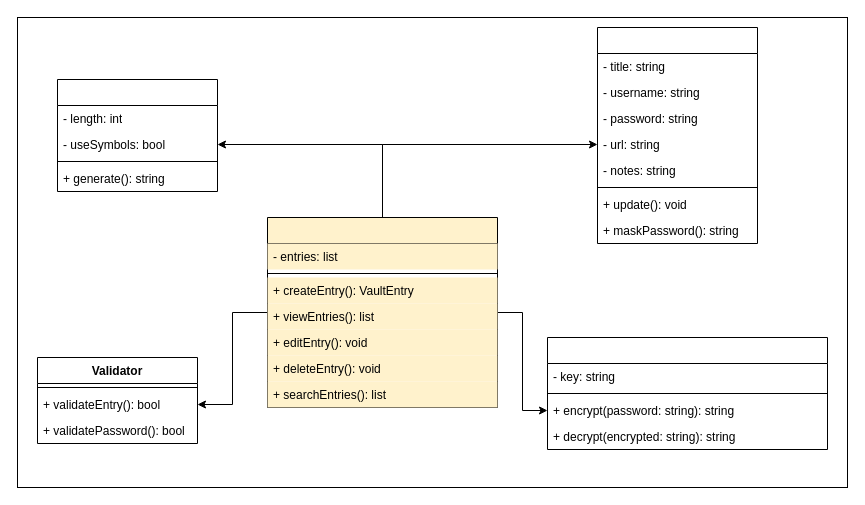
The diagram is 865 pixels wide and 505 high, and some of its shapes have lost their labels. The shapes that lost their labels are listed below. From the top down, each one's box as (x1, y1, x2, y2) in pixels, then its label:
(56, 78, 218, 192): PasswordGenerator
(596, 26, 758, 244): VaultEntry
(266, 216, 498, 408): VaultService
(546, 336, 828, 450): EncryptionService
